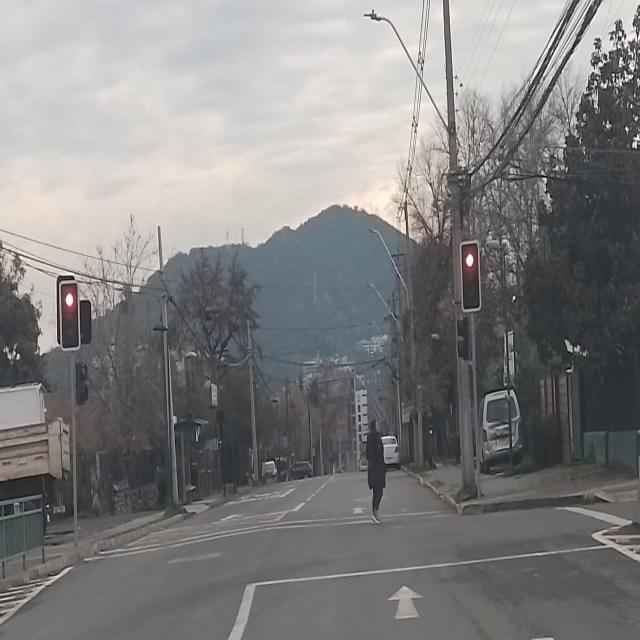person: (359, 420, 389, 524)
